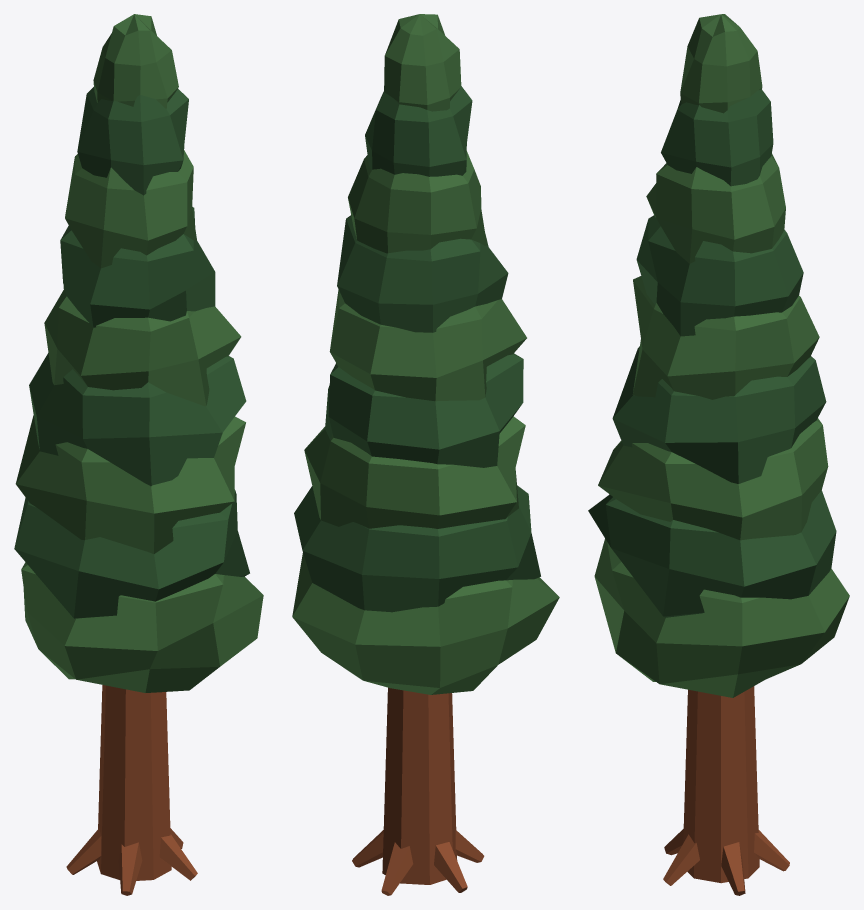
The model's file is tree_sequoia_small.glb.
3 renders of one model, left to right at view 1: azimuth 30°, elevation 25°; view 2: azimuth 150°, elevation 25°; view 3: azimuth 270°, elevation 25°, orthographic.
Parts seen in each view (by area): view 1: tree_sequoia_small; view 2: tree_sequoia_small; view 3: tree_sequoia_small.
Boxes of the visible parts, bbox=[...] form: tree_sequoia_small: bbox=[14, 14, 263, 895]; tree_sequoia_small: bbox=[292, 14, 559, 895]; tree_sequoia_small: bbox=[588, 14, 849, 895].
Size of the model in its own units: 1.26 by 4.62 by 1.28.
